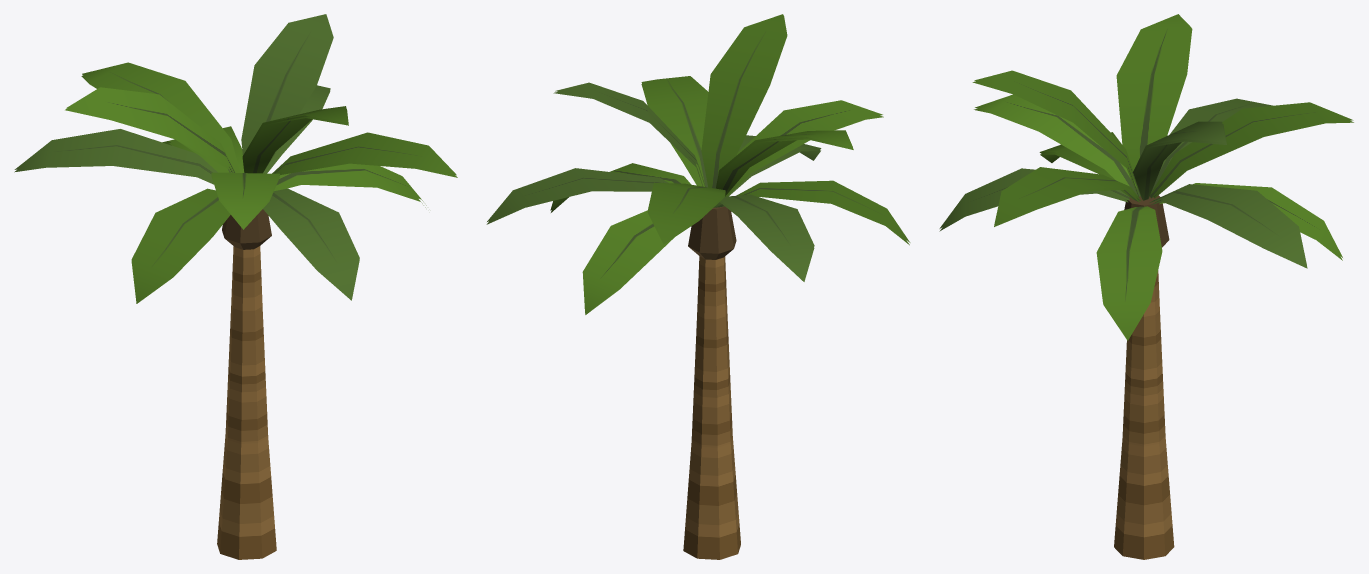
The model's file is Desert Tree 01.fbx.
3 views of the same model, side by side, from view 1: azimuth 30°, elevation 25°; view 2: azimuth 150°, elevation 25°; view 3: azimuth 270°, elevation 25° (orthographic). The views are drawn at different scales.
Parts seen in each view (by area): view 1: Desert_Tree_01; view 2: Desert_Tree_01; view 3: Desert_Tree_01.
Boxes of the visible parts, x1=… form: Desert_Tree_01: x1=14, y1=14, x2=457, y2=559; Desert_Tree_01: x1=486, y1=14, x2=910, y2=559; Desert_Tree_01: x1=939, y1=14, x2=1353, y2=559.
Size of the model in its own units: 410 by 558 by 444.
